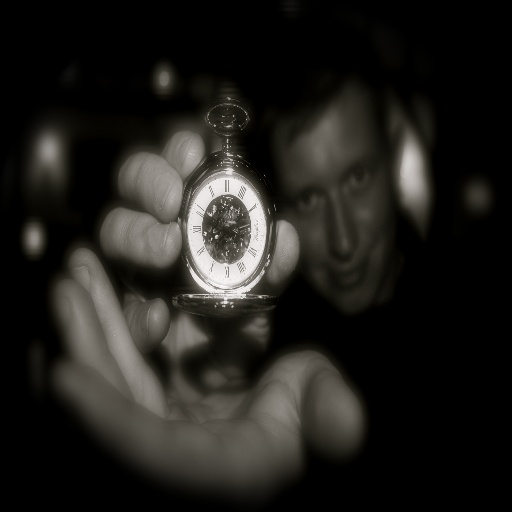hand: (51, 247, 364, 504), (97, 125, 301, 358)
